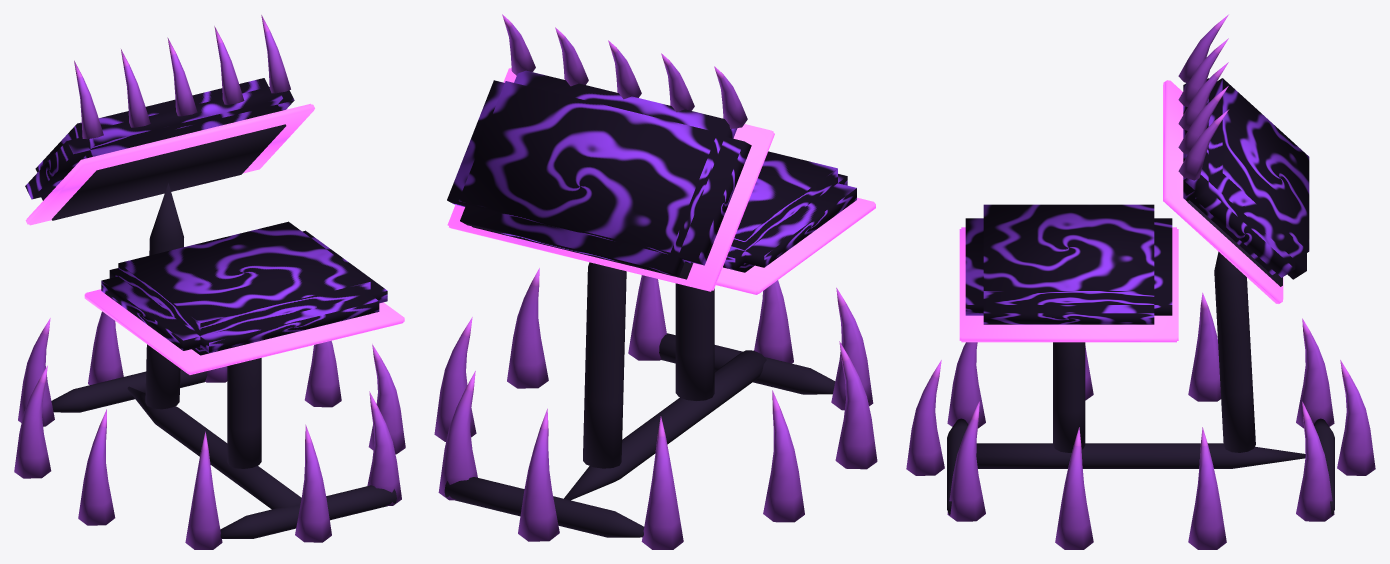
File: VoidBench.glb
The picture shows the model from 3 angles, left to right: view 1: azimuth 30°, elevation 25°; view 2: azimuth 150°, elevation 25°; view 3: azimuth 270°, elevation 25°; orthographic projection. The views are drawn at different scales.
Visible parts, largest first — view 1: VoidBench, VoidBench_Glow; view 2: VoidBench, VoidBench_Glow; view 3: VoidBench, VoidBench_Glow.
Boxes of the visible parts, x1=… form: VoidBench: x1=14, y1=15, x2=405, y2=549; VoidBench_Glow: x1=25, y1=103, x2=404, y2=374; VoidBench: x1=434, y1=14, x2=877, y2=549; VoidBench_Glow: x1=447, y1=67, x2=875, y2=294; VoidBench: x1=906, y1=14, x2=1375, y2=549; VoidBench_Glow: x1=959, y1=80, x2=1283, y2=342.
Bounding box in the file's own units: 3.08 × 3.66 × 3.79.
Materials: 2 (1 with a texture image).
